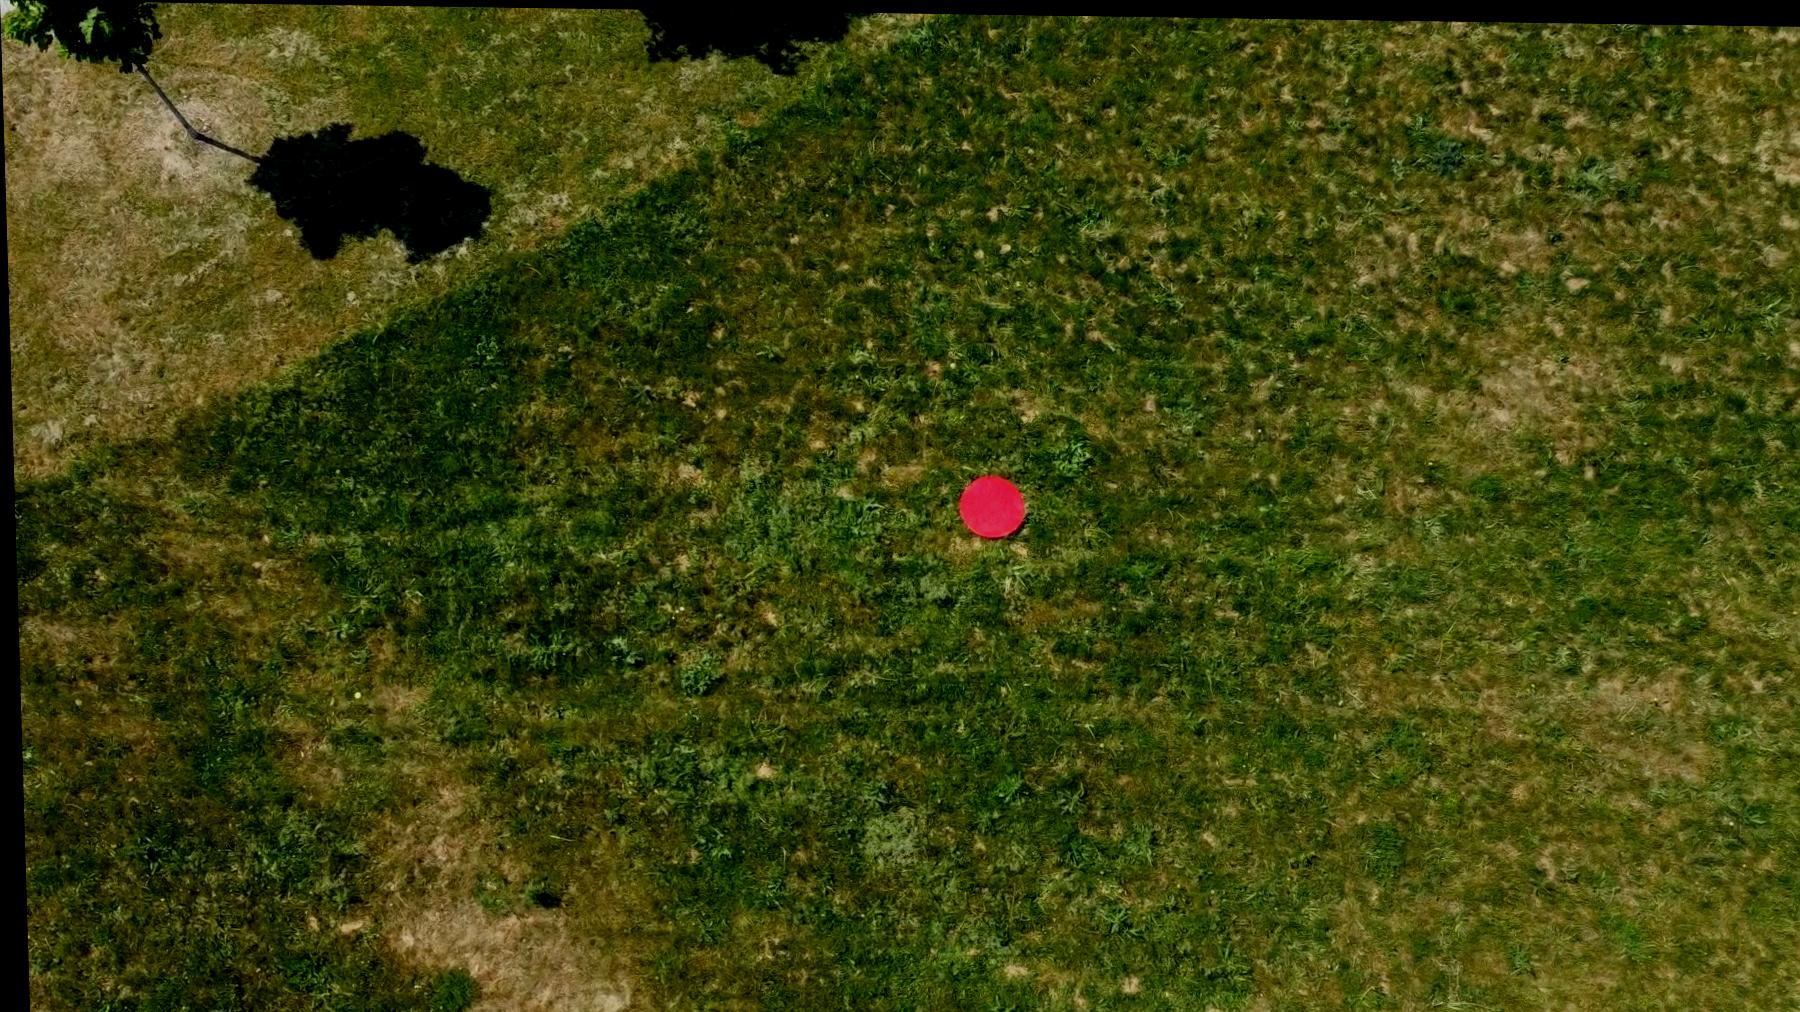Red: (952, 471, 1026, 539)
